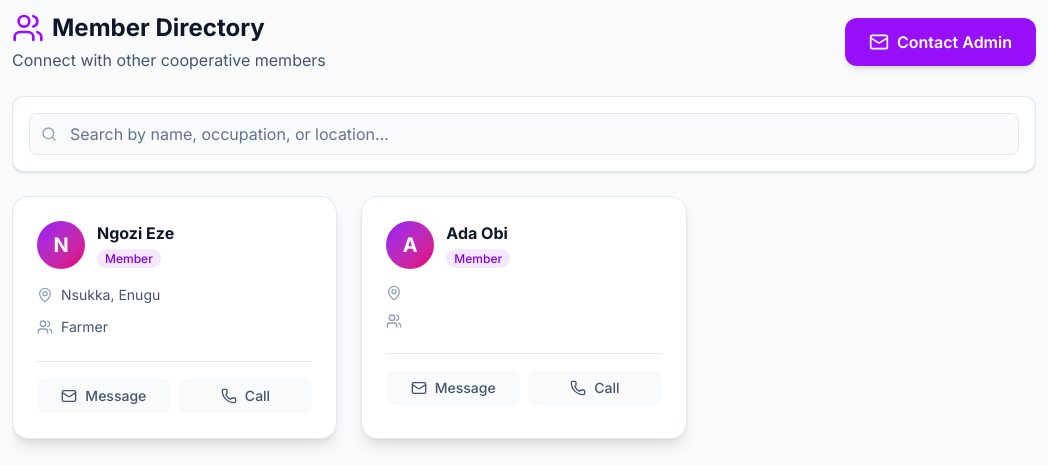
Test case: #589 — the cooperative directory survives a member with nothing on them › AND STILL SURVIVES WHEN SOMEBODY TYPES
Type "farm" into the field with placeholder "Search by name, occupation, or location...". click: (524, 134)
box: x1=29 y1=113 x2=1019 y2=155
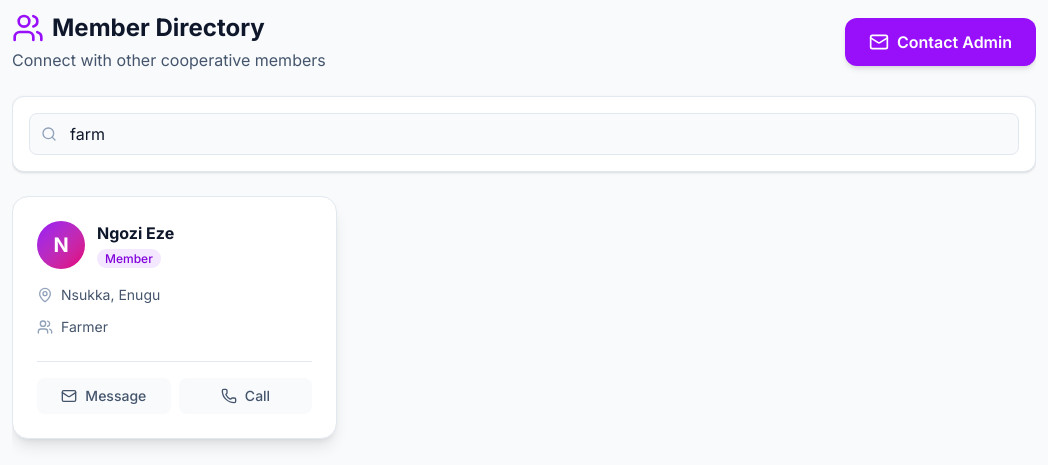
Expected: the text "Ngozi Eze" is shown, x1=97 y1=221 x2=174 y2=245
Expected: the text "Ada Obi" is gone
